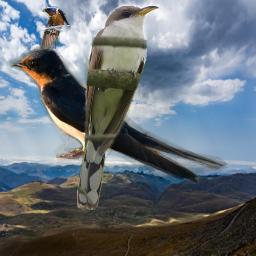Cuckoo: (77, 4, 160, 210)
Swallow: (6, 42, 228, 184), (38, 6, 71, 59)
